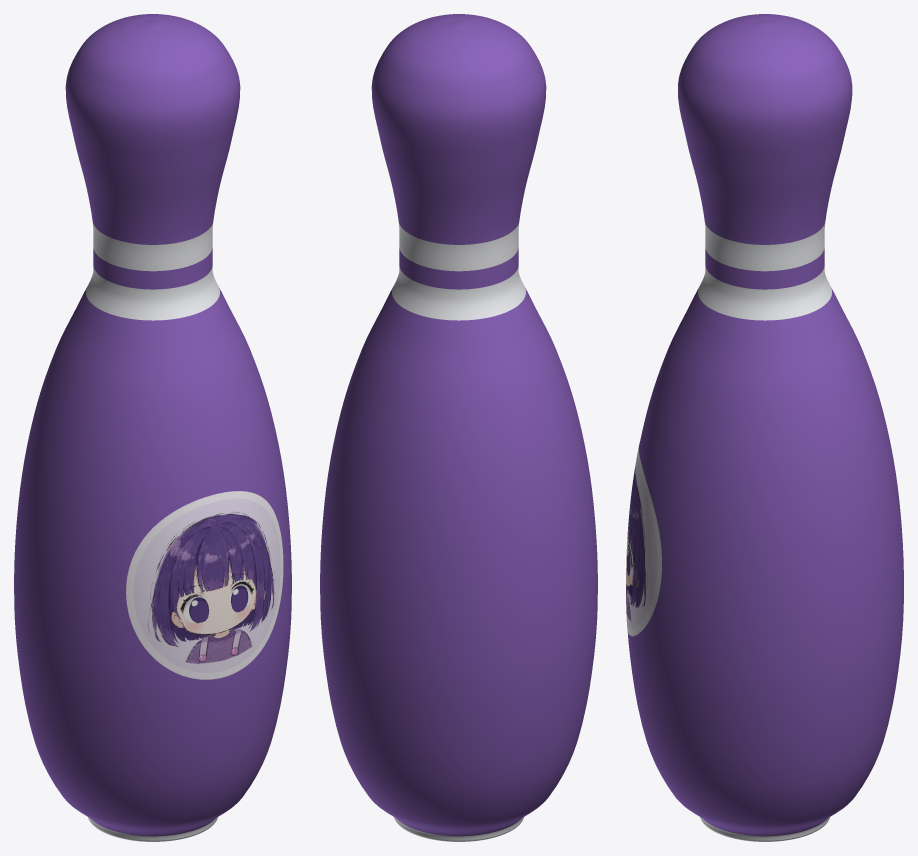
Rendered from LavenderChibiBowlingPin_380mm.fbx.
3 views of the same model, side by side, from view 1: azimuth 30°, elevation 25°; view 2: azimuth 150°, elevation 25°; view 3: azimuth 270°, elevation 25° (orthographic).
Parts seen in each view (by area): view 1: BowlingPin_Body, BowlingPin_CharacterDecal; view 2: BowlingPin_Body; view 3: BowlingPin_Body, BowlingPin_CharacterDecal.
Boxes of the visible parts, x1,y1,x2,y2 form: BowlingPin_Body: [14, 14, 291, 841]; BowlingPin_CharacterDecal: [126, 491, 283, 679]; BowlingPin_Body: [320, 14, 597, 841]; BowlingPin_Body: [627, 14, 903, 841]; BowlingPin_CharacterDecal: [626, 443, 661, 636].
Bounding box in the file's own units: 0.121 × 0.38 × 0.1211.
Materials: 3 (1 with a texture image).
